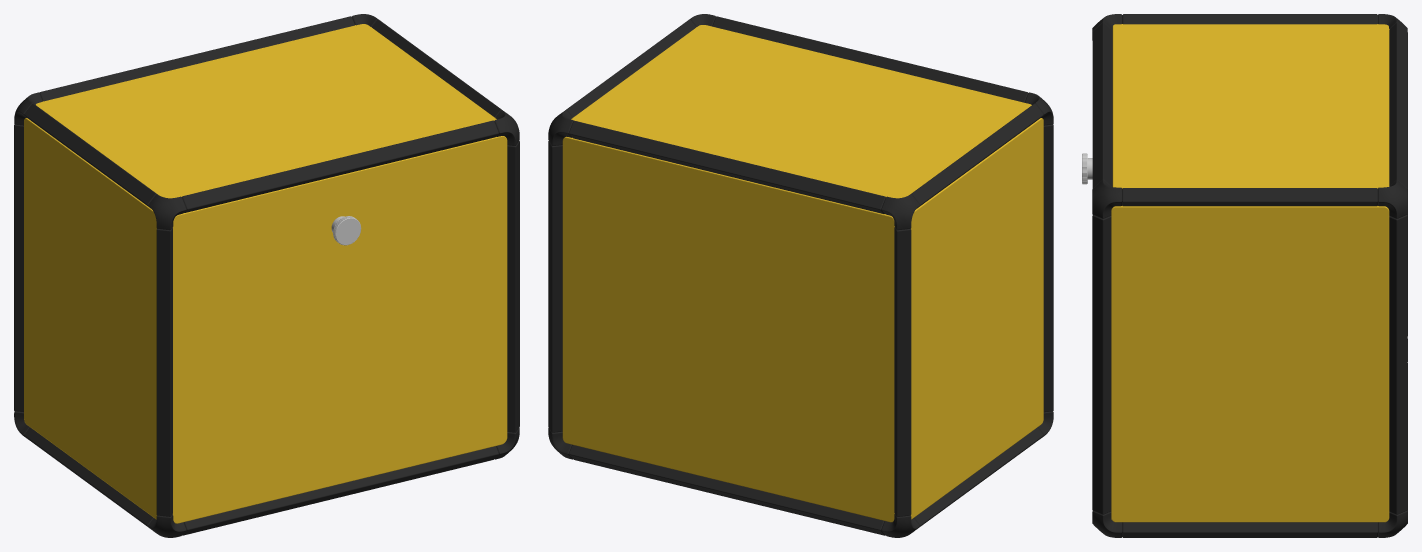
3 renders of one model, left to right at view 1: azimuth 30°, elevation 25°; view 2: azimuth 150°, elevation 25°; view 3: azimuth 270°, elevation 25°, orthographic. The views are drawn at different scales.
Visible parts, largest first — view 1: 479x329x420; view 2: 479x329x420; view 3: 479x329x420.
Part boxes in pixels (left/top/right/bottom): 479x329x420: left=14, top=14, right=519, bottom=537; 479x329x420: left=548, top=14, right=1053, bottom=537; 479x329x420: left=1082, top=14, right=1407, bottom=537.
Bounding box in the file's own units: 0.5567 × 0.4976 × 0.4196.
